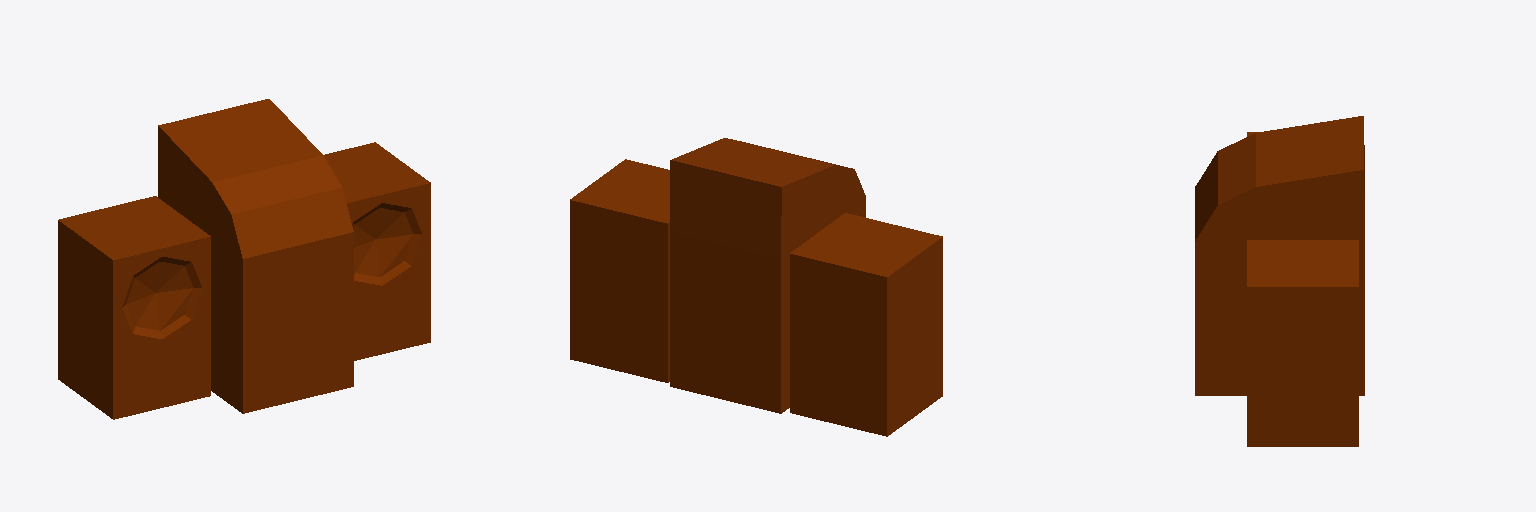
File: zenegep_b.obj
3 views of the same model, side by side, from view 1: azimuth 30°, elevation 25°; view 2: azimuth 150°, elevation 25°; view 3: azimuth 270°, elevation 25° (orthographic).
Parts seen in each view (by area): view 1: zenegep_b; view 2: zenegep_b; view 3: zenegep_b.
Part boxes in pixels (x1,y1,x2,y2): zenegep_b: (58,99,430,419); zenegep_b: (570,138,942,436); zenegep_b: (1195,116,1364,446).
Bounding box in the file's own units: 117 × 79.45 × 54.03.